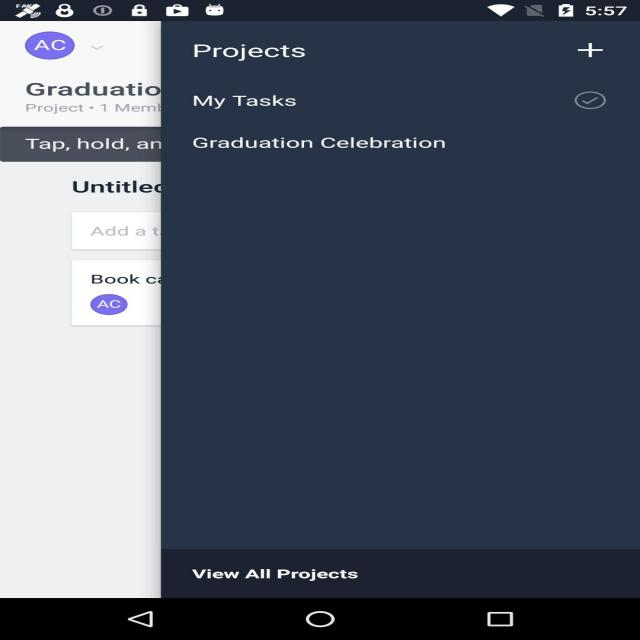button: (170, 75, 640, 128), (168, 553, 638, 599), (164, 128, 640, 171), (449, 604, 552, 636), (555, 28, 622, 74), (102, 597, 184, 634), (567, 79, 621, 118), (288, 613, 356, 635), (86, 40, 105, 52)
icon: (558, 82, 626, 120), (111, 598, 180, 632), (558, 39, 620, 70), (26, 30, 78, 64), (477, 607, 533, 634), (296, 608, 355, 633), (80, 34, 108, 56)
image: (183, 559, 402, 594)
text: (181, 133, 468, 161), (22, 75, 164, 118), (190, 83, 339, 116), (8, 131, 161, 157), (187, 40, 320, 68), (60, 168, 169, 200), (84, 267, 164, 295), (80, 222, 160, 247), (88, 296, 128, 318)
